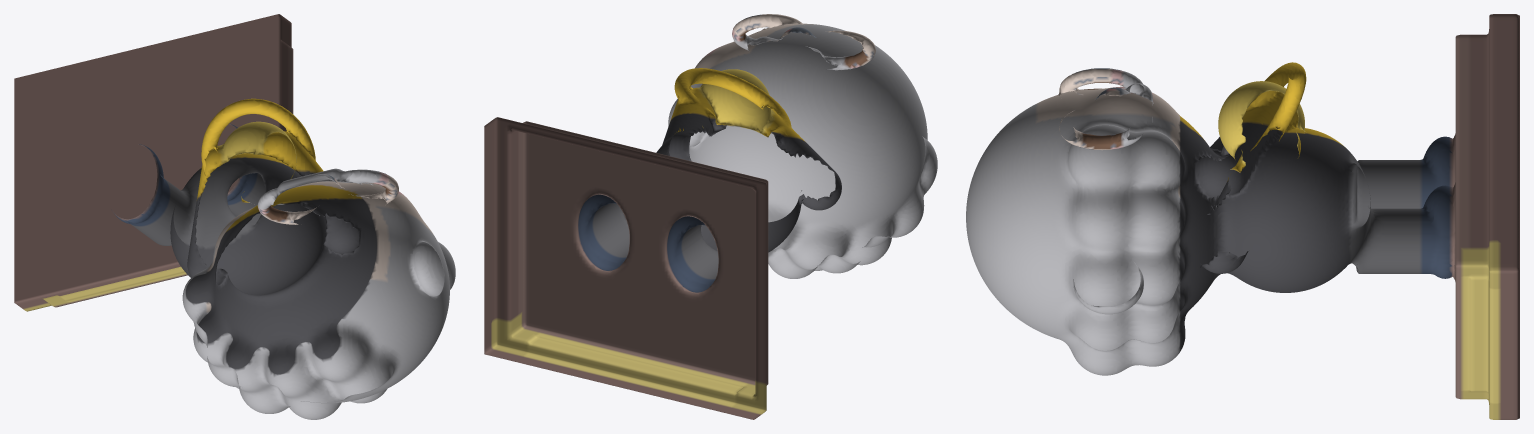
Rendered from planck_chibi_colored.glb.
3 views of the same model, side by side, from view 1: azimuth 30°, elevation 25°; view 2: azimuth 150°, elevation 25°; view 3: azimuth 270°, elevation 25° (orthographic). The views are drawn at different scales.
Visible parts, largest first — view 1: Quantum_Planck; view 2: Quantum_Planck; view 3: Quantum_Planck.
Boxes of the visible parts, box(x1,y1,x2,y2) form: Quantum_Planck: box(14, 14, 455, 419); Quantum_Planck: box(484, 14, 937, 419); Quantum_Planck: box(966, 14, 1519, 419).
Bounding box in the file's own units: 52 × 46.86 × 81.5.
